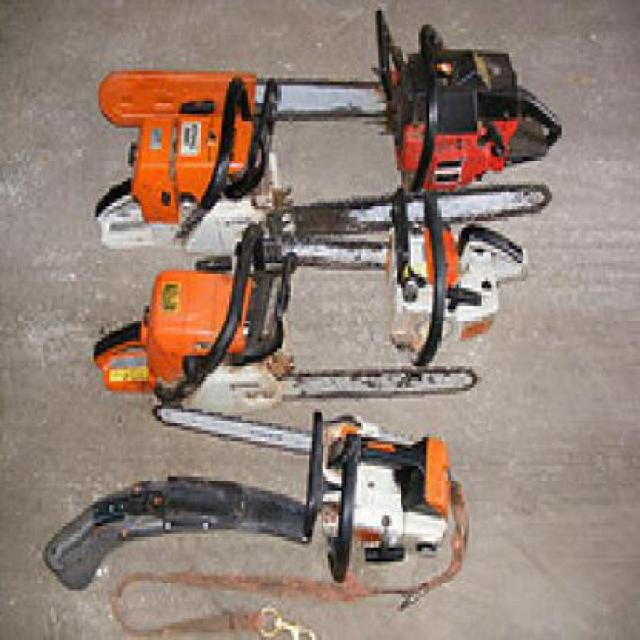Chainsaw: (100, 9, 563, 191), (97, 74, 554, 254), (94, 223, 478, 415), (155, 403, 471, 612), (260, 182, 526, 369)
